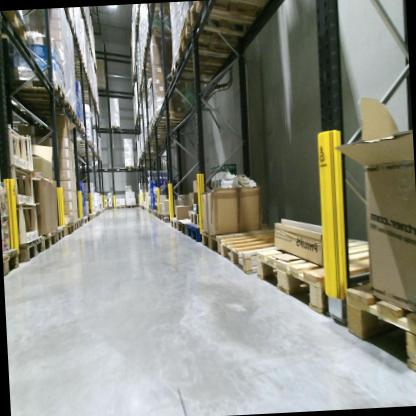pallet: (257, 223, 386, 328), (343, 273, 416, 383), (173, 19, 249, 66), (220, 228, 293, 276), (187, 0, 274, 38), (168, 50, 225, 90), (201, 222, 268, 256), (5, 72, 66, 108), (17, 96, 72, 118), (0, 10, 30, 44), (15, 233, 45, 265), (36, 108, 77, 126), (2, 242, 21, 277), (152, 107, 183, 127), (149, 115, 185, 131), (176, 8, 191, 43), (41, 230, 58, 251), (59, 115, 81, 131), (187, 223, 203, 244), (66, 124, 87, 136), (71, 138, 95, 148), (55, 224, 67, 242), (189, 210, 202, 226), (177, 219, 188, 237), (161, 213, 176, 224), (170, 216, 180, 231), (107, 125, 121, 134), (66, 221, 75, 234), (76, 217, 84, 228), (123, 163, 135, 170), (124, 203, 138, 209), (114, 204, 126, 210), (74, 219, 80, 230), (82, 215, 88, 225), (157, 211, 163, 220), (103, 205, 113, 210), (85, 213, 91, 221), (89, 212, 94, 219), (92, 212, 97, 218)
